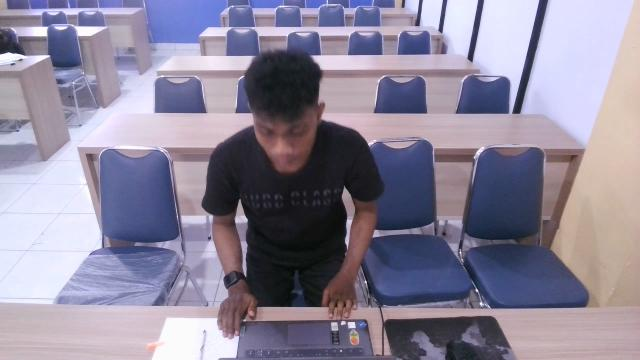Empty_Desk: (194, 28, 397, 360)
